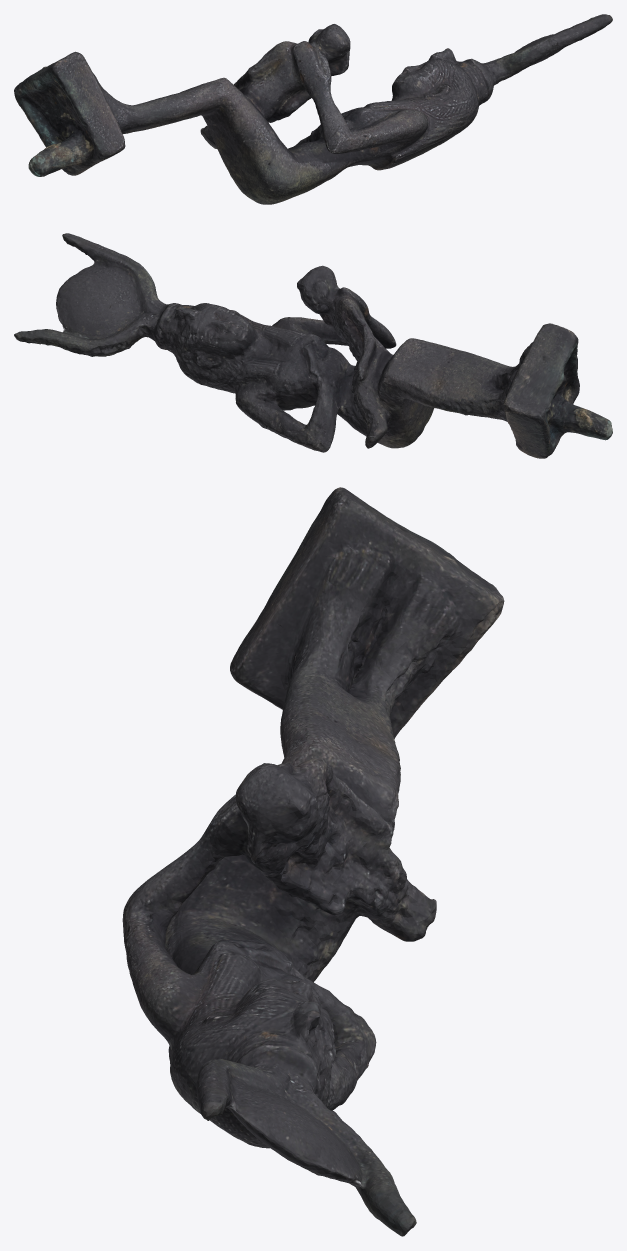
Rendered from 180809_mia348_00085_302_64Kmesh_ZB.OBJ.
3 views of the same model, one above another, from view 1: azimuth 30°, elevation 25°; view 2: azimuth 150°, elevation 25°; view 3: azimuth 270°, elevation 25° (orthographic). The views are drawn at different scales.
Parts seen in each view (by area): view 1: ZBrush_defualt_group; view 2: ZBrush_defualt_group; view 3: ZBrush_defualt_group.
Boxes of the visible parts, bbox=[...] form: ZBrush_defualt_group: bbox=[14, 14, 612, 204]; ZBrush_defualt_group: bbox=[14, 233, 612, 458]; ZBrush_defualt_group: bbox=[122, 487, 504, 1236].
Size of the model in its own units: 3.18 by 0.9547 by 0.9457.
1 material, 1 textured.
